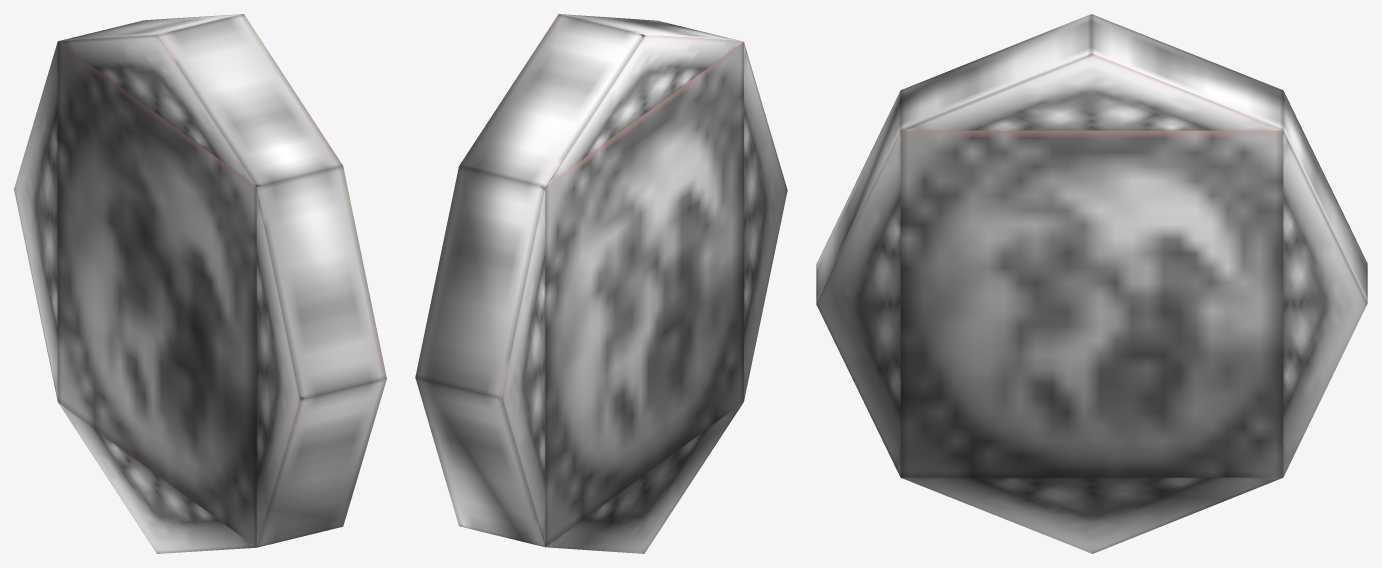
The picture shows the model from 3 angles, left to right: view 1: azimuth 30°, elevation 25°; view 2: azimuth 150°, elevation 25°; view 3: azimuth 270°, elevation 25°; orthographic projection. The views are drawn at different scales.
Parts seen in each view (by area): view 1: T1L7M002_18; view 2: T1L7M002_18; view 3: T1L7M002_18.
Boxes of the visible parts, x1,y1,x2,y2 form: T1L7M002_18: [14, 14, 386, 553]; T1L7M002_18: [415, 14, 787, 553]; T1L7M002_18: [816, 14, 1367, 553].
Bounding box in the file's own units: 0.0791 × 0.4541 × 0.4541.
